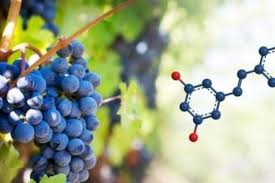Black grapes: (1, 36, 103, 180)
